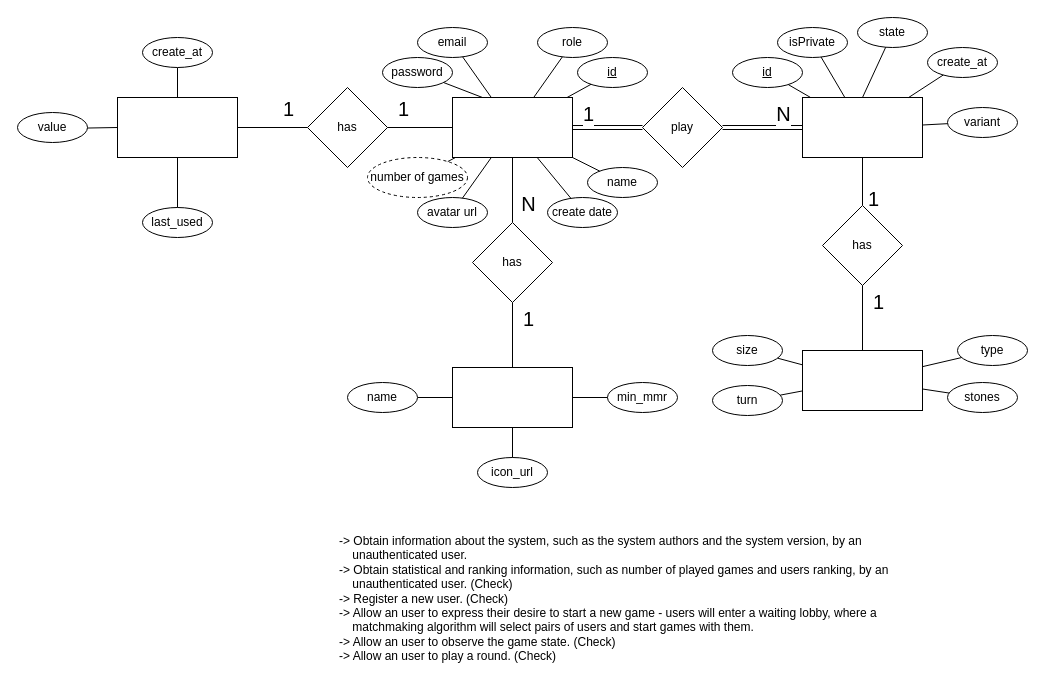
Image size: 1045x695. Some labels were removed from this diagram. Each missing label, with the centre of its shape:
"Board" goes at (862,380).
"Match" goes at (862,127).
"Rank" goes at (512,397).
"Token" goes at (177,127).
"User" goes at (512,127).
